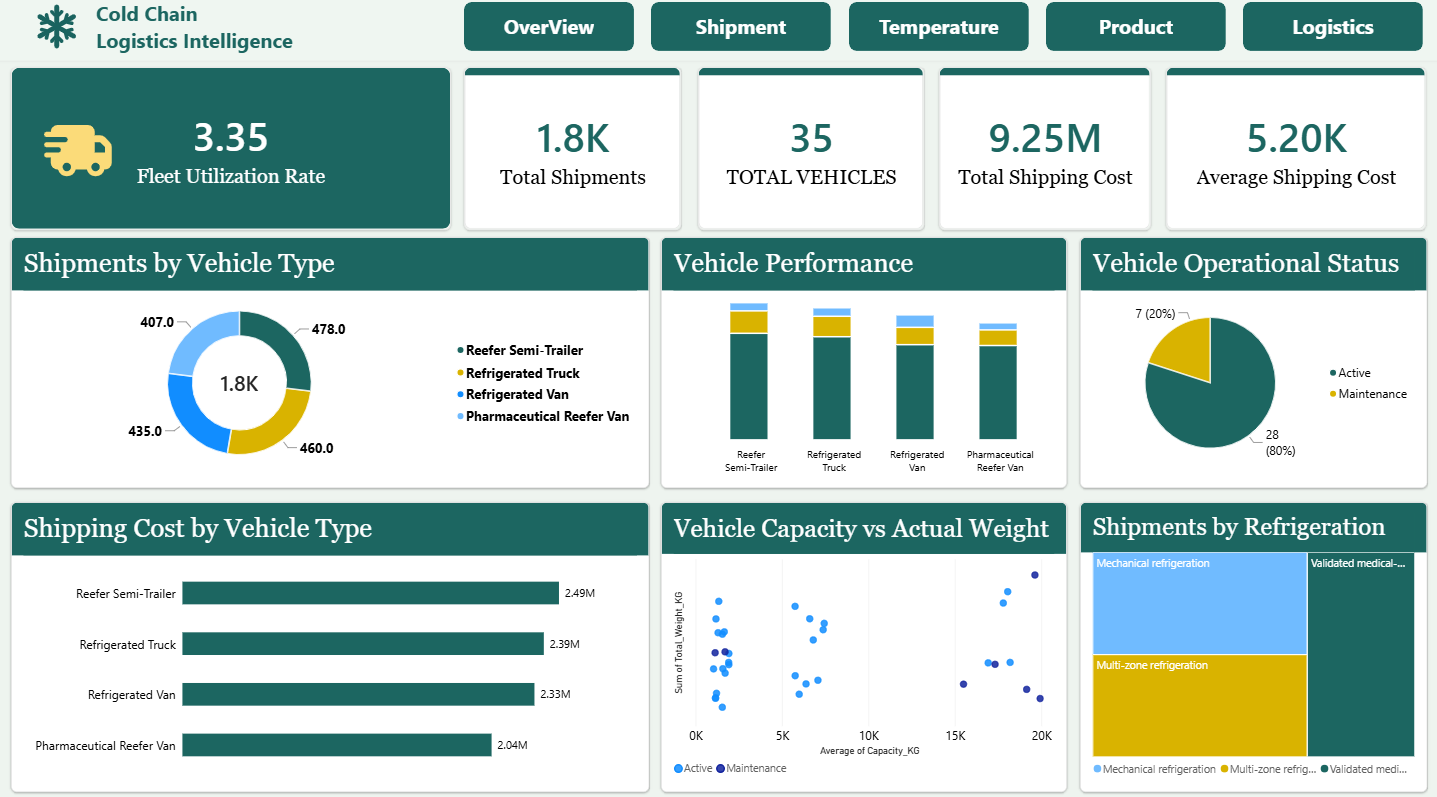

This screenshot's page, from the dashboard's own definition file:
{"tool":"powerbi","page":{"name":"Logistics Cost & Fleet Analysis","canvas":[1920,1080],"ordinal":4},"visuals":[{"type":"cardVisual","fields":{"Data":["Count(vw_Vehicle_Analysis.Vehicle_ID)"]},"box":[933.7,98.4,300.6,216.8],"z":0},{"type":"cardVisual","fields":{"Data":["_Measures.Average Shipping Cost"]},"box":[1556.2,98.4,345.8,216.8],"z":1000},{"type":"cardVisual","fields":{"Data":["Sum(vw_Vehicle_Analysis.Total_Shipping_Cost)"]},"box":[1254.2,98.4,282,216.8],"z":2000},{"type":"cardVisual","fields":{"Data":["_Measures.Total Shipments"]},"box":[622.5,98.4,288.6,216.8],"z":3000},{"type":"scatterChart","title":"Vehicle Capacity vs Actual Weight","fields":{"Category":["vw_Vehicle_Analysis.Vehicle_ID"],"Series":["vw_Vehicle_Analysis.Vehicle_Status"],"X":["Avg(vw_Vehicle_Analysis.Capacity_KG)"],"Y":["Sum(vw_Vehicle_Analysis.Total_Weight_KG)"]},"box":[884.5,677,540,385.7],"z":4000},{"type":"donutChart","title":"Shipments by Vehicle Type","fields":{"Category":["vw_Shipment_Overview.Vehicle_Type"],"Y":["_Measures.Total Shipments"]},"box":[20,324.5,848.6,333.8],"z":5000},{"type":"pieChart","title":"Vehicle Operational Status","fields":{"Category":["vw_Vehicle_Analysis.Vehicle_Status"],"Y":["CountNonNull(vw_Vehicle_Analysis.Vehicle_ID)"]},"box":[1441.8,324.5,461.5,333.8],"z":6000},{"type":"clusteredBarChart","title":"Shipping Cost by Vehicle Type","fields":{"Category":["vw_Vehicle_Analysis.Vehicle_Type"],"Y":["Sum(vw_Vehicle_Analysis.Total_Shipping_Cost)"]},"box":[20,677,848.6,385.7],"z":7000},{"type":"cardVisual","fields":{"Data":["_Measures.Fleet Utilization Rate"]},"box":[20,98.4,585.2,216.8],"z":8000},{"type":"columnChart","title":"Vehicle Performance","fields":{"Category":["vw_Vehicle_Analysis.Vehicle_Type"],"Y":["Sum(vw_Vehicle_Analysis.Delivered_Shipments)","Sum(vw_Vehicle_Analysis.Delayed_Shipments)","Sum(vw_Vehicle_Analysis.Cancelled_Shipments)"]},"box":[884.5,324.5,540,333.8],"z":9000},{"type":"treemap","title":"Shipments by Refrigeration ","fields":{"Group":["vw_Vehicle_Analysis.Refrigeration_Type"],"Values":["_Measures.Total Shipments"]},"box":[1442,677,462,386],"z":10000},{"type":"shape","box":[0,0,1920.6,90.4],"z":11000},{"type":"image","box":[63.8,153,90.4,109.1],"z":12000},{"type":"actionButton","box":[622.5,12,226.1,65.2],"z":13000},{"type":"actionButton","box":[871.5,12,239.4,65.2],"z":14000},{"type":"actionButton","box":[1133.9,12,239.4,65.2],"z":15000},{"type":"actionButton","box":[1396.2,12,239.4,65.2],"z":16000},{"type":"actionButton","box":[1658.6,12,239.4,65.2],"z":17000},{"type":"image","box":[41.2,12,78.5,65.2],"z":18000},{"type":"textbox","box":[133,8,445.6,90.4],"z":19000}]}

Visuals, with their boxes in screenshot pixels (x1, y1, x2, y2), scaled from the page's 1920x1080 canvas onto the 1437x797 screenshot:
cardVisual - Count(vw_Vehicle_Analysis.Vehicle_ID): [699, 73, 924, 233]
cardVisual - _Measures.Average Shipping Cost: [1165, 73, 1424, 233]
cardVisual - Sum(vw_Vehicle_Analysis.Total_Shipping_Cost): [939, 73, 1150, 233]
cardVisual - _Measures.Total Shipments: [466, 73, 682, 233]
"Vehicle Capacity vs Actual Weight" scatterChart: [662, 500, 1066, 784]
"Shipments by Vehicle Type" donutChart: [15, 239, 650, 486]
"Vehicle Operational Status" pieChart: [1079, 239, 1425, 486]
"Shipping Cost by Vehicle Type" clusteredBarChart: [15, 500, 650, 784]
cardVisual - _Measures.Fleet Utilization Rate: [15, 73, 453, 233]
"Vehicle Performance" columnChart: [662, 239, 1066, 486]
"Shipments by Refrigeration " treemap: [1079, 500, 1425, 784]
shape: [0, 0, 1436, 67]
image: [48, 113, 115, 193]
actionButton: [466, 9, 635, 57]
actionButton: [652, 9, 831, 57]
actionButton: [849, 9, 1028, 57]
actionButton: [1045, 9, 1224, 57]
actionButton: [1241, 9, 1421, 57]
image: [31, 9, 90, 57]
textbox: [100, 6, 433, 73]
